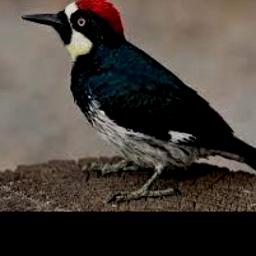Woodpecker: (20, 0, 256, 200)
